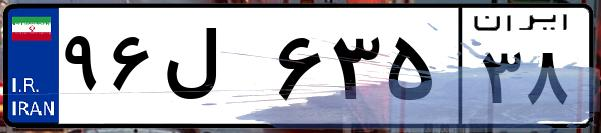3: (330, 28, 385, 110), (475, 38, 525, 113)
5: (385, 28, 445, 110)
6: (270, 28, 330, 110), (110, 28, 158, 98)
8: (525, 38, 570, 115)
9: (57, 26, 110, 100)
ل: (158, 20, 270, 120)
